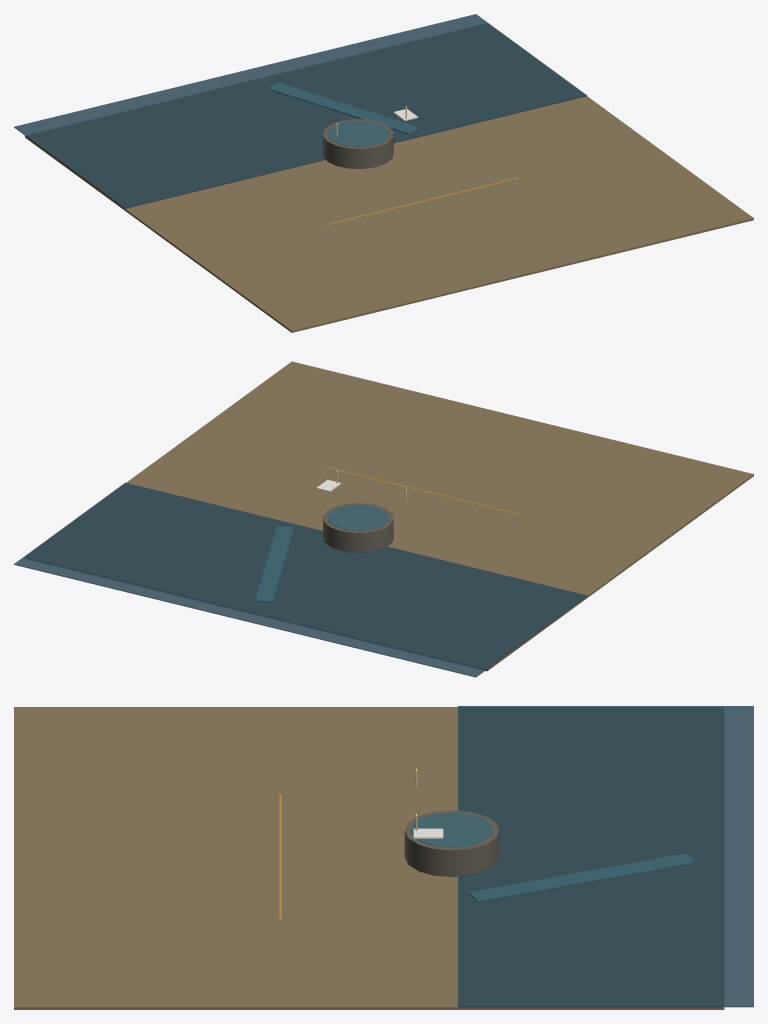
The model's file is sacrament-baptism.glb.
3 views of the same model, one above another, from view 1: azimuth 30°, elevation 25°; view 2: azimuth 150°, elevation 25°; view 3: azimuth 270°, elevation 25° (orthographic). The views are drawn at different scales.
Visible parts, largest first — view 1: floor, lake, font-stone, mountain-stream, font-water; view 2: floor, lake, font-stone, mountain-stream, font-water; view 3: floor, lake, font-stone, mountain-stream, font-water.
Boxes of the visible parts, x1,y1,x2,y2 form: floor: [25, 51, 753, 332]; lake: [14, 14, 587, 208]; font-stone: [323, 119, 393, 168]; mountain-stream: [268, 82, 420, 134]; font-water: [327, 120, 389, 146]; floor: [80, 361, 753, 671]; lake: [14, 482, 587, 677]; font-stone: [323, 503, 393, 552]; mountain-stream: [255, 526, 294, 602]; font-water: [327, 504, 389, 530]; floor: [14, 707, 724, 1009]; lake: [458, 706, 753, 1007]; font-stone: [404, 810, 499, 877]; mountain-stream: [468, 853, 695, 902]; font-water: [410, 812, 493, 847].
Bounding box in the file's own units: 12 × 1.29 × 12.5.
